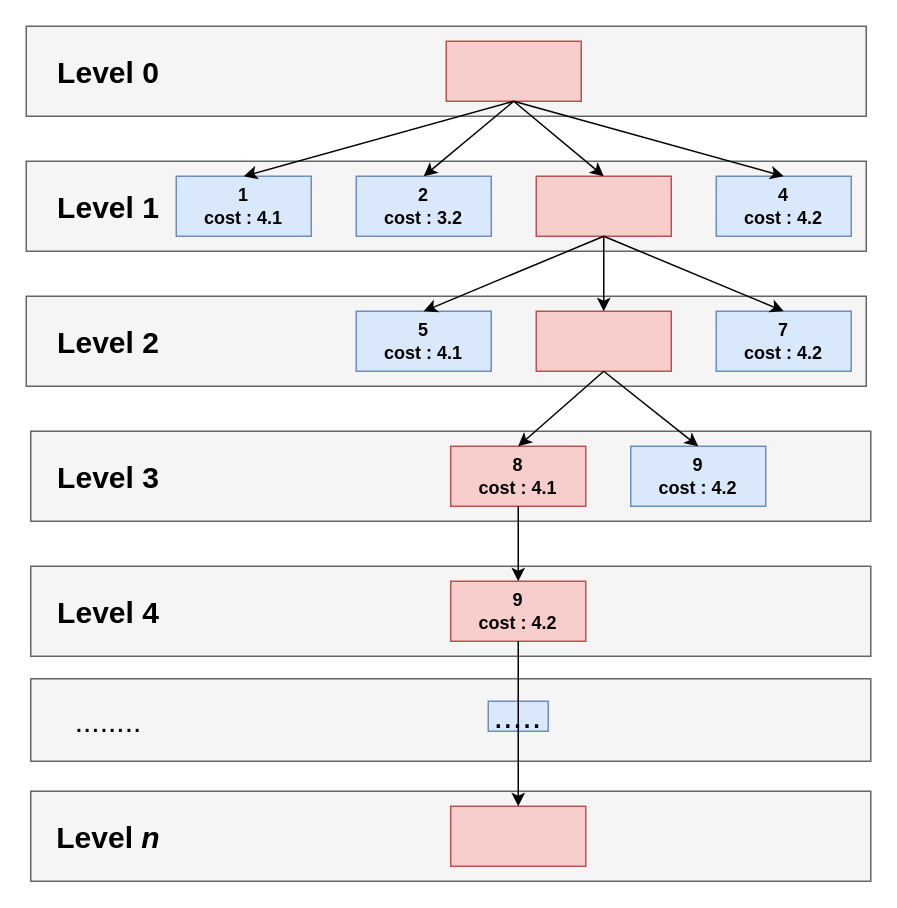
The diagram is 897 pixels wide and 908 high, and some of its shapes have lost their labels. The box of each missing label's shape, as (x1, y1, x2, y2) in pixels:
0 cost : 2.0: (445, 40, 581, 101)
3 cost : 2.9: (535, 175, 671, 236)
6 cost : 3.2: (535, 310, 671, 371)
n cost : n: (449, 805, 586, 866)
